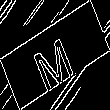M_NW: (30, 22, 80, 88)
